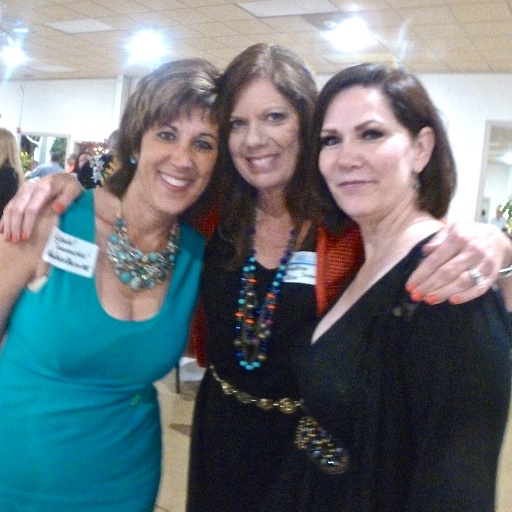hand: (398, 206, 512, 303), (0, 170, 83, 245)
